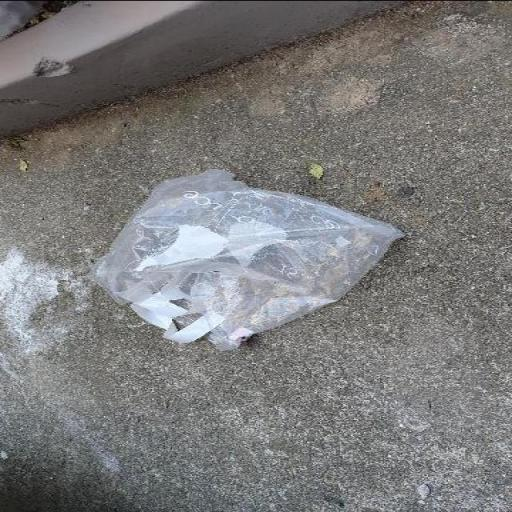plastic-bag: (88, 167, 406, 354)
